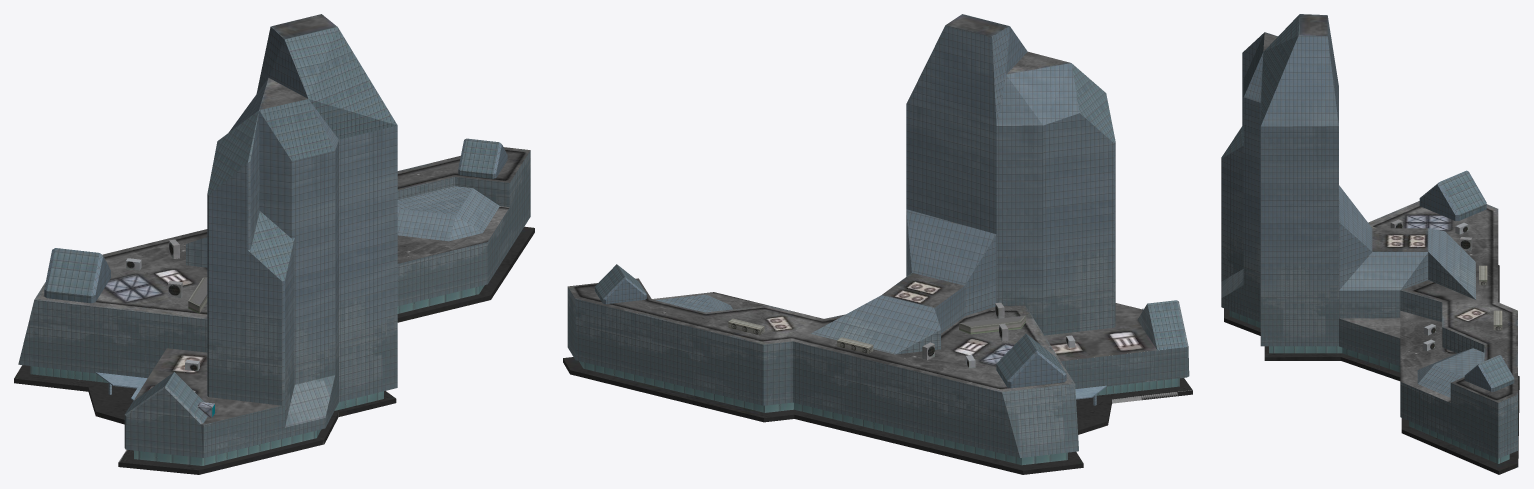
The picture shows the model from 3 angles, left to right: view 1: azimuth 30°, elevation 25°; view 2: azimuth 150°, elevation 25°; view 3: azimuth 270°, elevation 25°; orthographic projection. The views are drawn at different scales.
Visible parts, largest first — view 1: Building_07_low; view 2: Building_07_low; view 3: Building_07_low.
Boxes of the visible parts, x1,y1,x2,y2 form: Building_07_low: (14,14,534,474); Building_07_low: (563,14,1192,474); Building_07_low: (1221,14,1519,474).
Size of the model in its own units: 4.85 by 3.11 by 2.71.
1 material, 1 textured.
